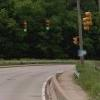Traffic light: (75, 10, 100, 38)
